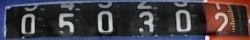digits: (137, 10, 154, 32), (174, 9, 190, 32), (96, 11, 112, 33), (20, 13, 36, 34), (58, 12, 74, 33), (214, 12, 228, 32)
